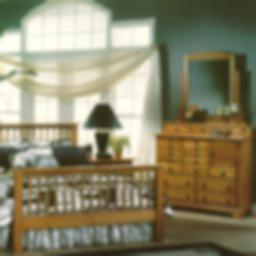Armario: (164, 139, 242, 208)
